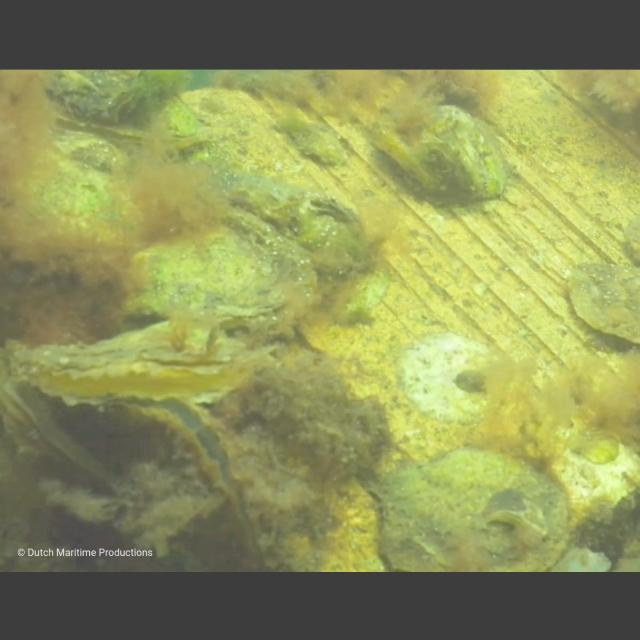Oyster-Closed: (114, 202, 320, 330), (371, 446, 574, 572), (17, 125, 155, 248), (368, 101, 508, 205), (40, 68, 150, 122), (568, 262, 640, 342)
Oyster-Open: (14, 316, 280, 406), (140, 396, 274, 572), (229, 185, 369, 275), (41, 90, 211, 154), (0, 374, 94, 478)
